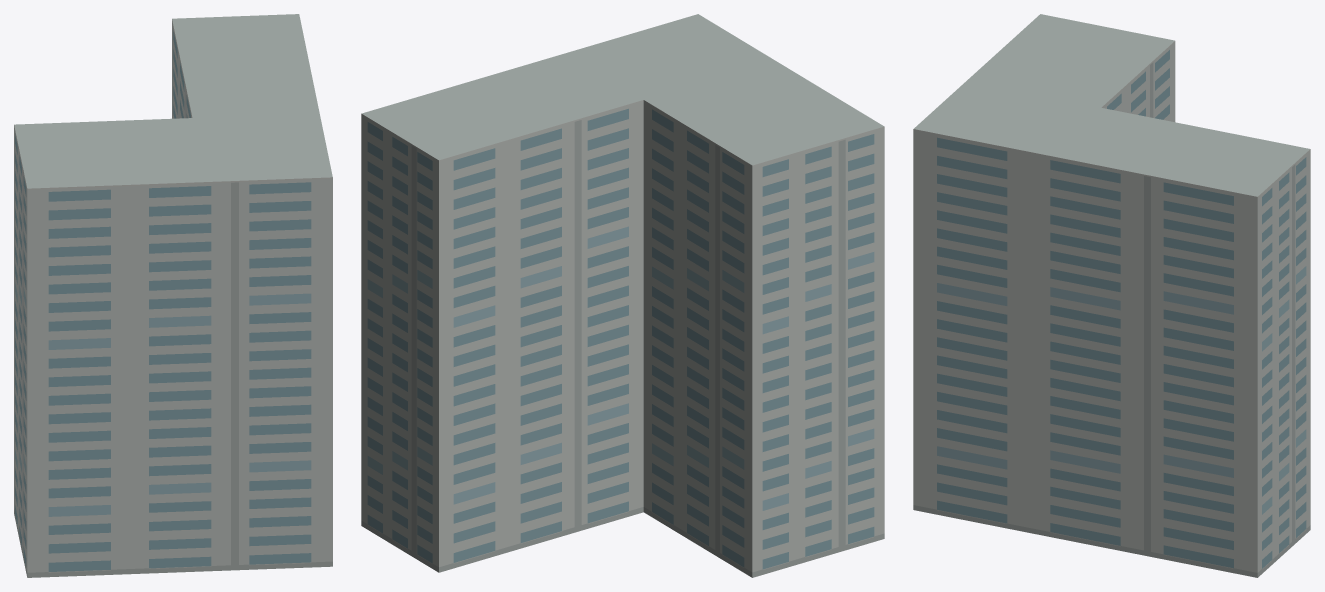
The model's file is residential-63ffc530-c541-4526-8ba9-eee68c35c787.glb.
3 renders of one model, left to right at view 1: azimuth 30°, elevation 25°; view 2: azimuth 150°, elevation 25°; view 3: azimuth 270°, elevation 25°, orthographic. The views are drawn at different scales.
Parts seen in each view (by area): view 1: residential-63ffc530-c541-4526-8ba9-eee68c35c787.tmp; view 2: residential-63ffc530-c541-4526-8ba9-eee68c35c787.tmp; view 3: residential-63ffc530-c541-4526-8ba9-eee68c35c787.tmp.
Part boxes in pixels (x1=…): residential-63ffc530-c541-4526-8ba9-eee68c35c787.tmp: x1=14, y1=14, x2=332, y2=577; residential-63ffc530-c541-4526-8ba9-eee68c35c787.tmp: x1=361, y1=14, x2=884, y2=577; residential-63ffc530-c541-4526-8ba9-eee68c35c787.tmp: x1=913, y1=14, x2=1310, y2=577.
Bounding box in the file's own units: 65.88 × 64 × 60.45.
